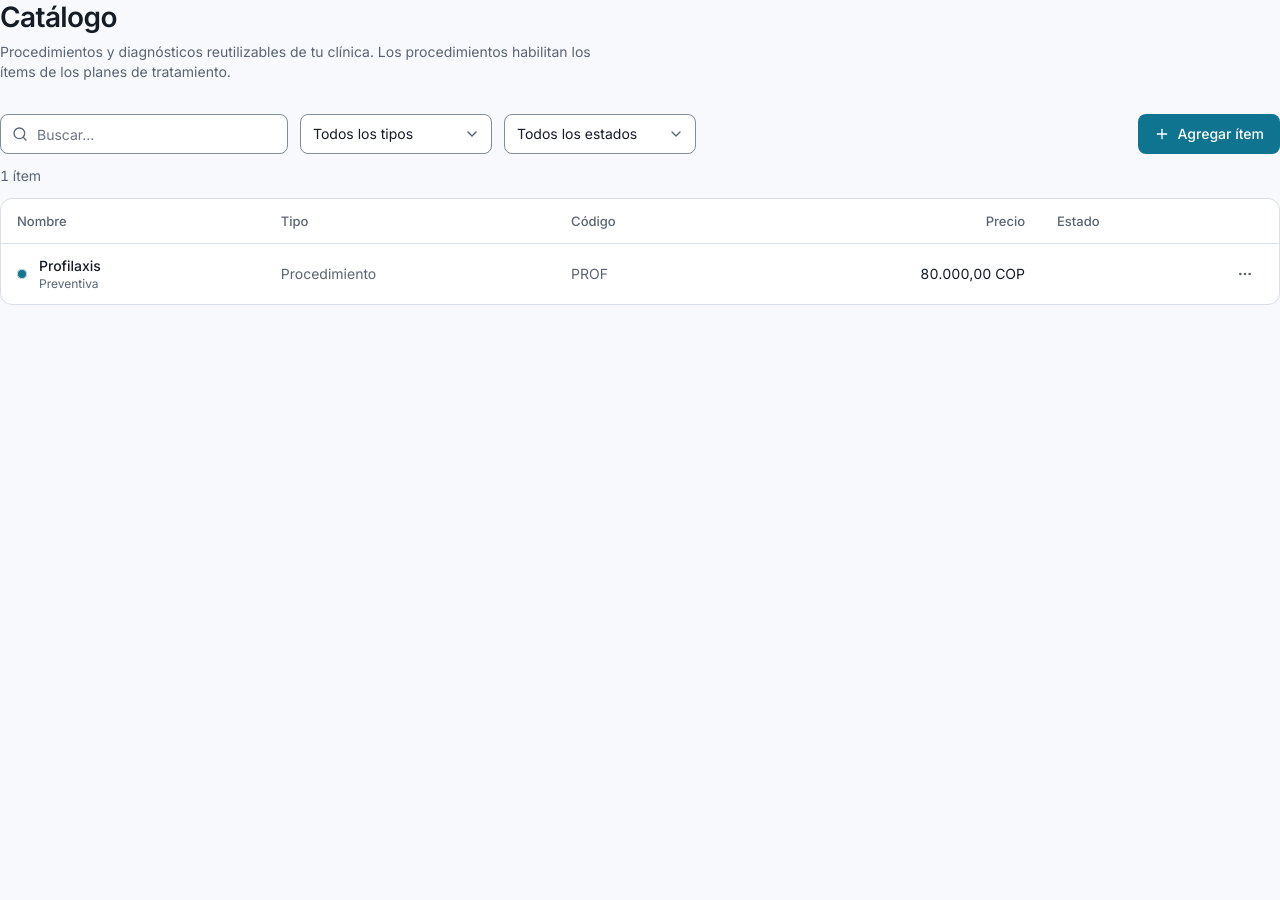
Scenario: CatalogView › «Editar» vive en el menú ⋯, abre el modal relleno y hace PATCH
The width and height of the screenshot is (1280, 900).
Check: the table named "catálogo" is shown, box [1,199,1279,304]
Click the button named "acciones de profilaxis". click: (1245,274)
box: [1227,256,1263,292]
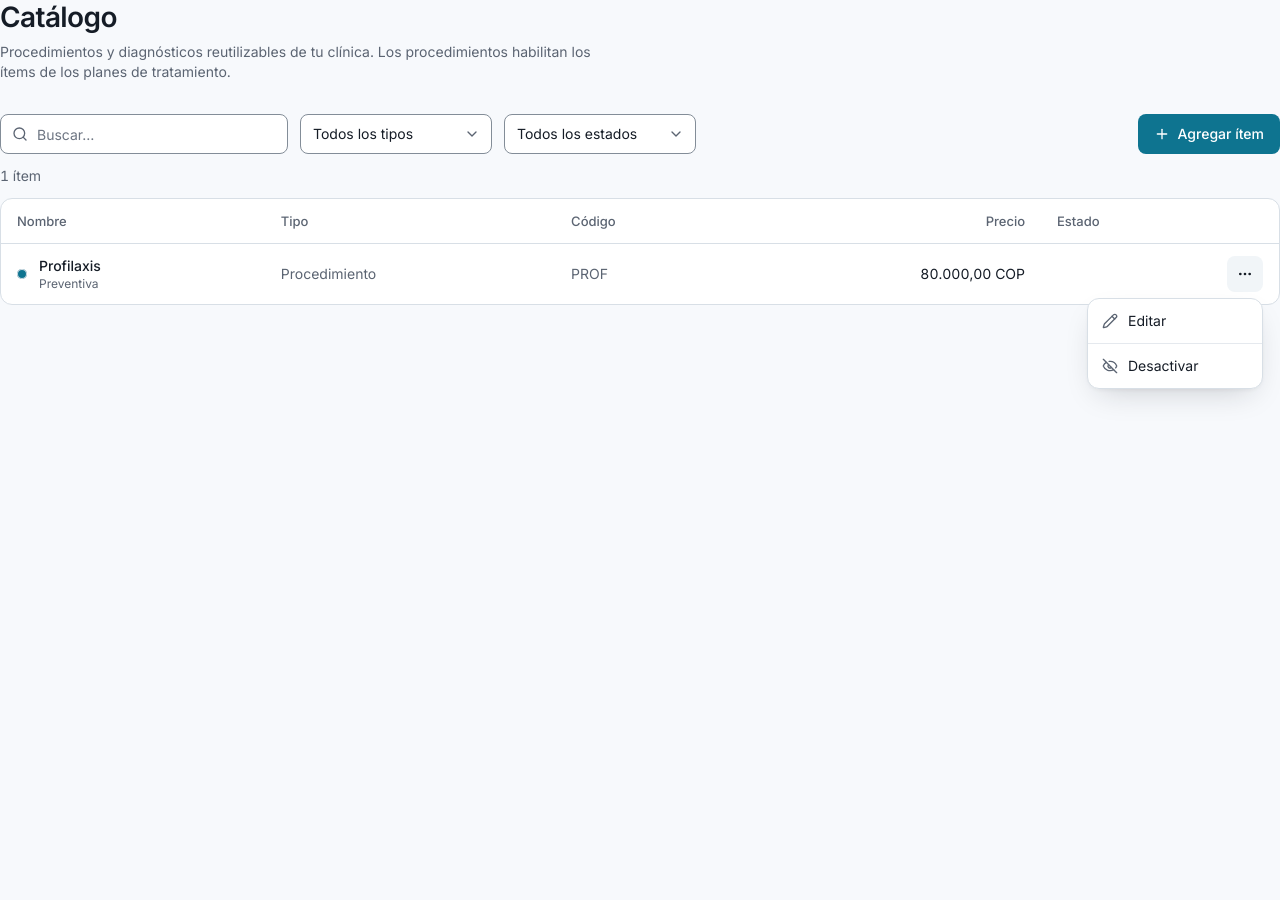
Click the menu item "Editar". click: (1134,320)
box: [1102,312,1166,329]
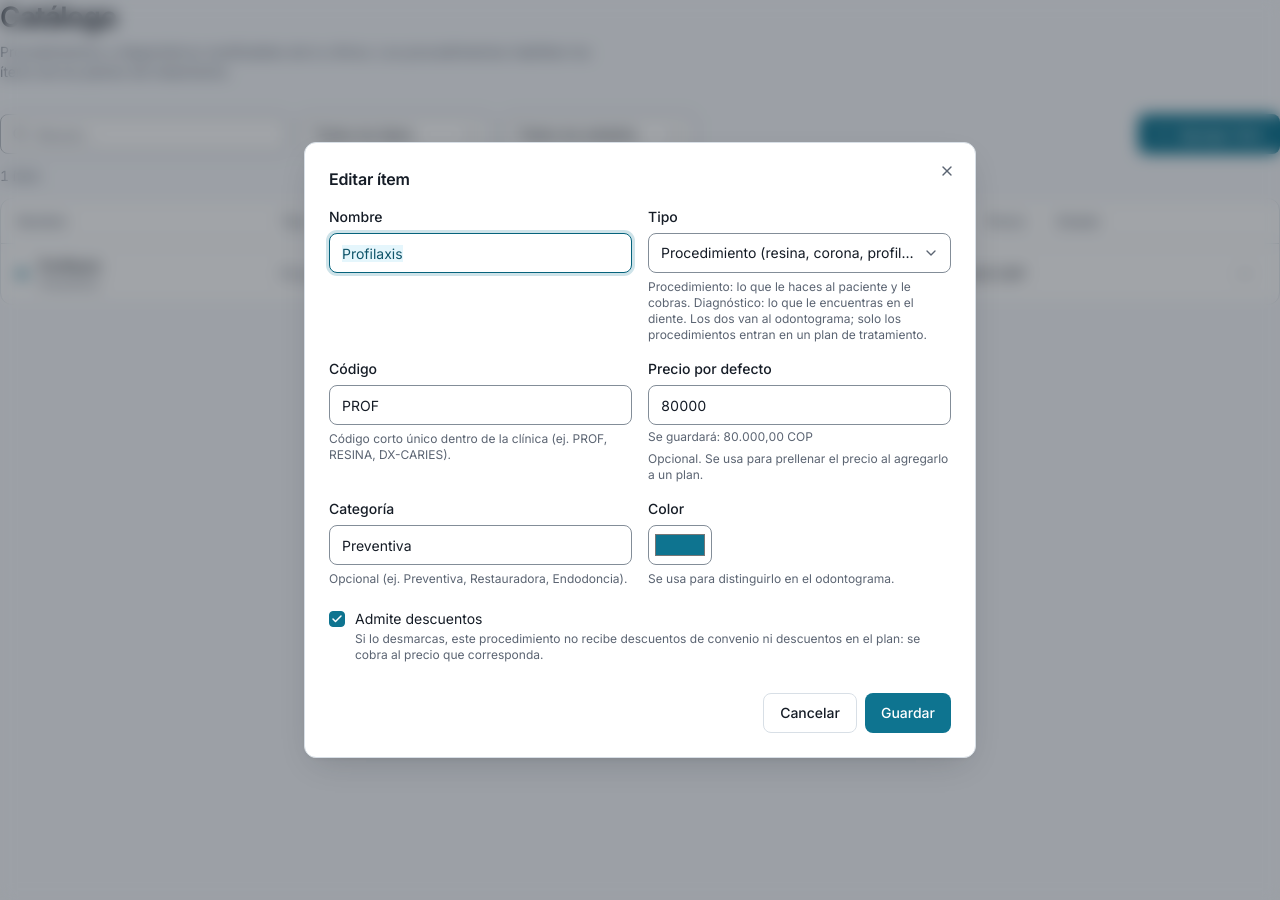
Check: the field labelled "Nombre" holds "Profilaxis"
Replace the text in the field labelled "Nombre" with "Profilaxis dental". click: (480,253)
box: [329,233,632,273]
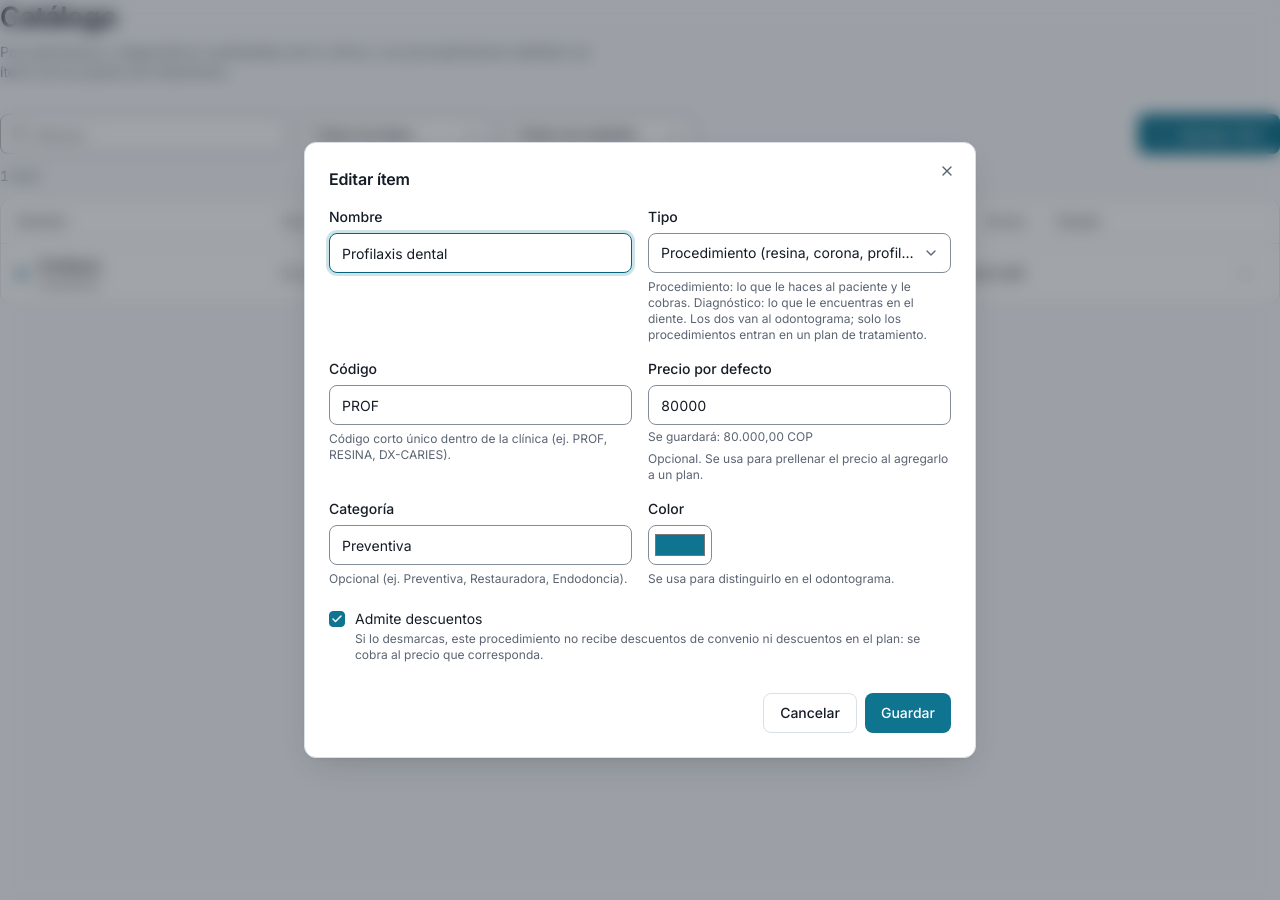
Click the button "Guardar". click: (908,713)
box: [865,693,951,733]
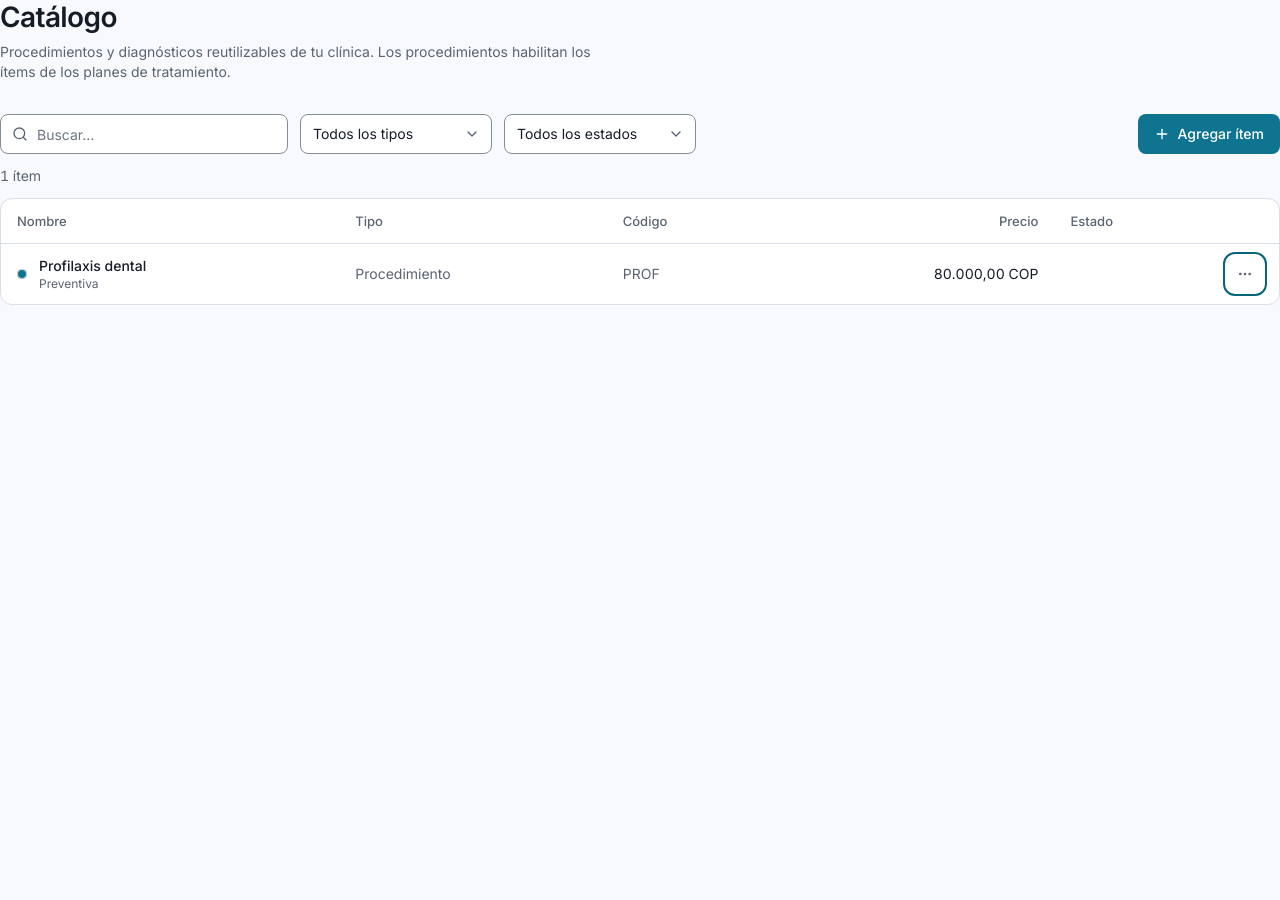
Check: the text "Profilaxis dental" is shown, box [39,256,146,274]
